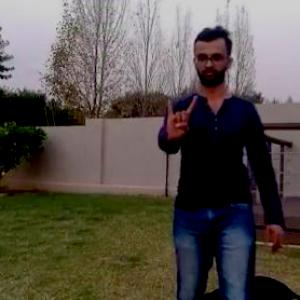takeoff-hand: (158, 87, 204, 144)
